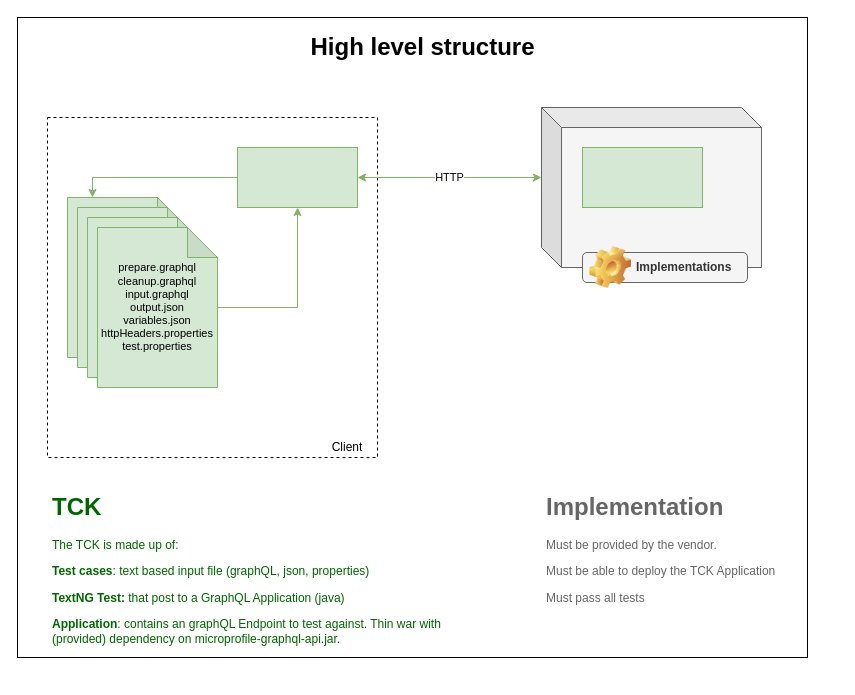
Image size: 855x695. Some labels were removed from this diagram. The centre of each missing label's shape, as x and y in pixels:
Application(s): (x=642, y=177)
Dynamic Test Case: (x=297, y=177)
